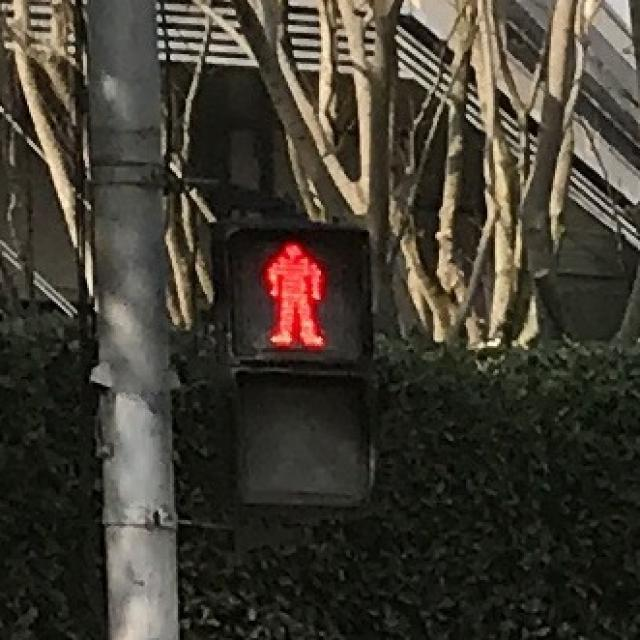red-crossing: (234, 232, 346, 354)
